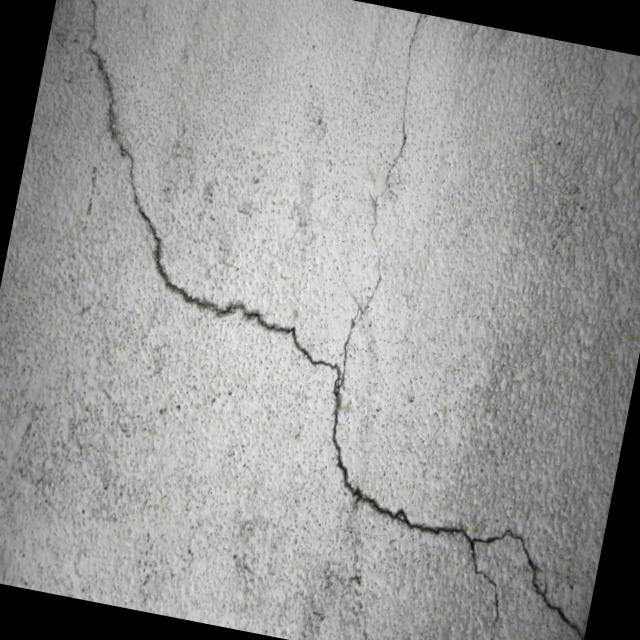crack: (0, 0, 640, 634), (333, 11, 436, 390)
